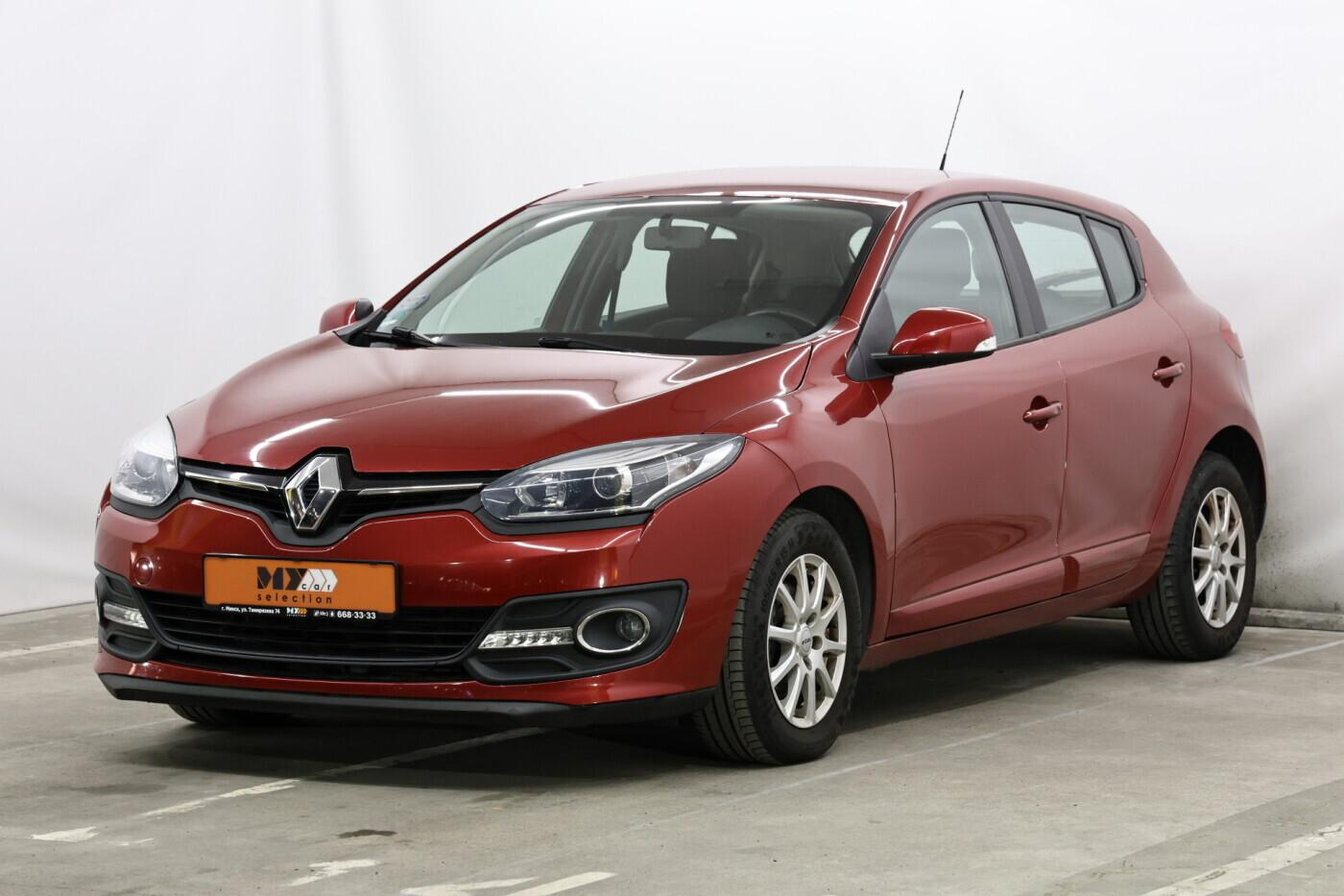Megane_2012-2014: (82, 167, 1273, 777)
